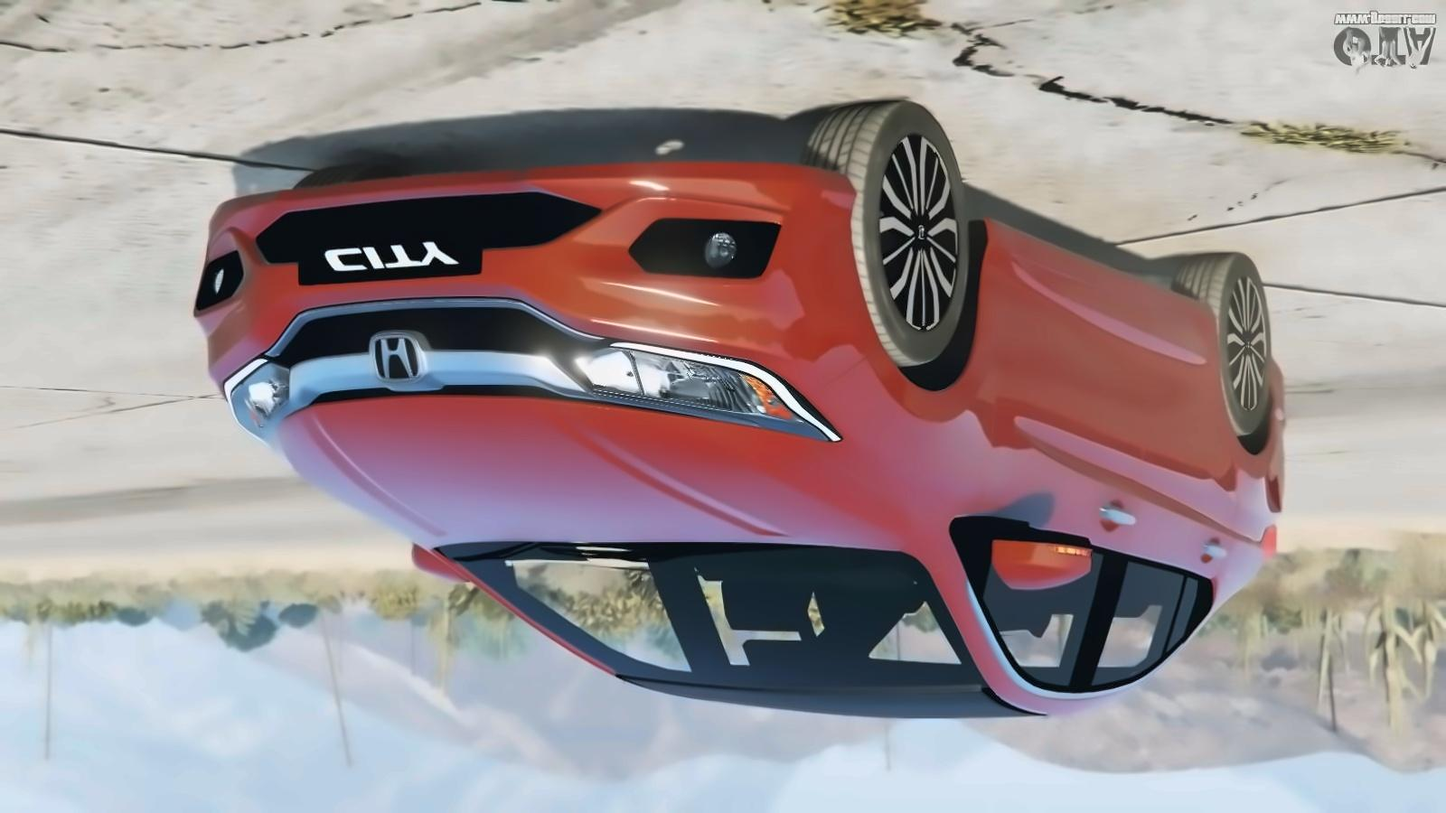Car hood: (270, 393, 902, 556)
Driver-s door - -F-R-: (956, 249, 1137, 714)
Fender - -F-R-: (804, 213, 1010, 553)
Fender - -R-R-: (1200, 276, 1277, 583)
Front bumper: (173, 153, 886, 346)
Headlight - -L-: (219, 347, 301, 447)
Headlight - -R-: (568, 333, 845, 447)
Passenger-s door - -R-R-: (1137, 300, 1243, 691)
Rear bumper: (1227, 356, 1346, 461)
Side bumper - -R-: (970, 189, 1229, 359)
Side mirror - -L-: (397, 534, 486, 601)
Side mirror - -R-: (972, 518, 1110, 603)
